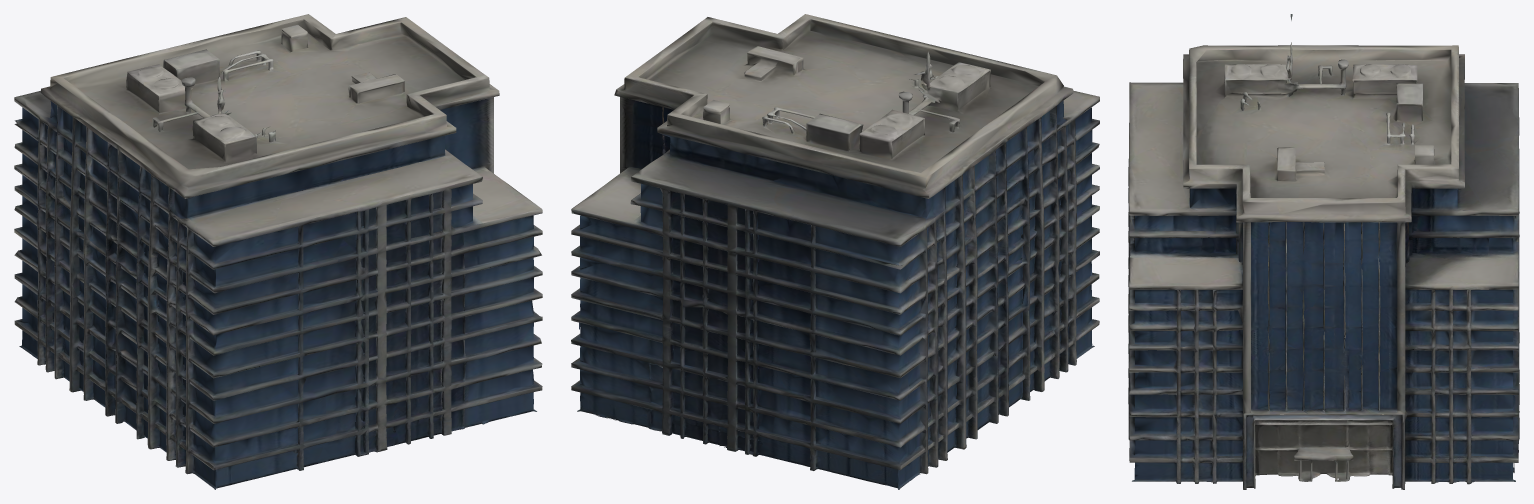
The model's file is predio_escritorio.glb.
3 views of the same model, side by side, from view 1: azimuth 30°, elevation 25°; view 2: azimuth 150°, elevation 25°; view 3: azimuth 270°, elevation 25° (orthographic). The views are drawn at different scales.
Visible parts, largest first — view 1: tripo_node_a1f08dc3-64d8-417c-9600-97f64e4a8038; view 2: tripo_node_a1f08dc3-64d8-417c-9600-97f64e4a8038; view 3: tripo_node_a1f08dc3-64d8-417c-9600-97f64e4a8038.
Part boxes in pixels (x1,y1,x2,y2): tripo_node_a1f08dc3-64d8-417c-9600-97f64e4a8038: (14, 14, 542, 489); tripo_node_a1f08dc3-64d8-417c-9600-97f64e4a8038: (571, 14, 1099, 489); tripo_node_a1f08dc3-64d8-417c-9600-97f64e4a8038: (1128, 14, 1519, 489).
Bounding box in the file's own units: 1 × 1 × 1.
Materials: 1 (1 with a texture image).
